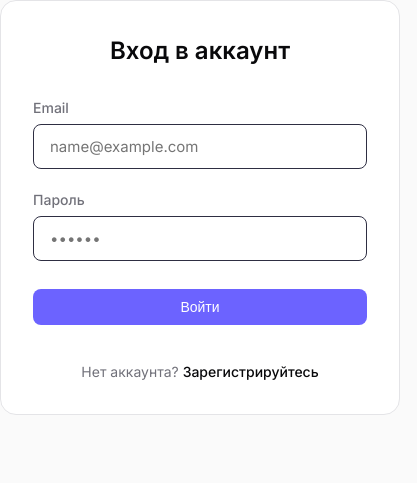
it: Компонент LoginForm › показывает ошибку при вводе невалидного email
This screenshot has width=417, height=483.
Type "email@m" into the field labelled "Email" at (200, 146), box [33, 124, 367, 169]
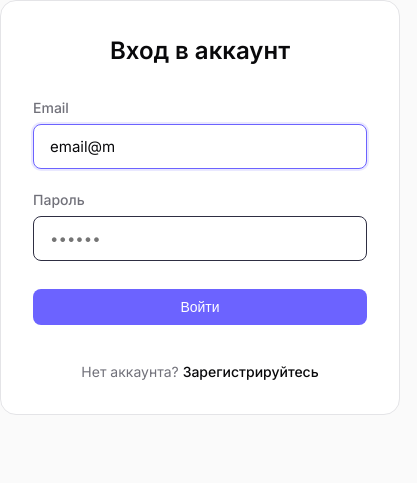
Click the button "Войти" at (200, 307), box [33, 289, 367, 325]
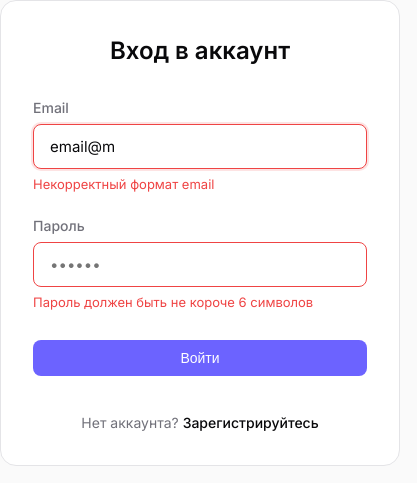
Expected: the text "Некорректный формат email" is shown, [33, 176, 214, 192]
